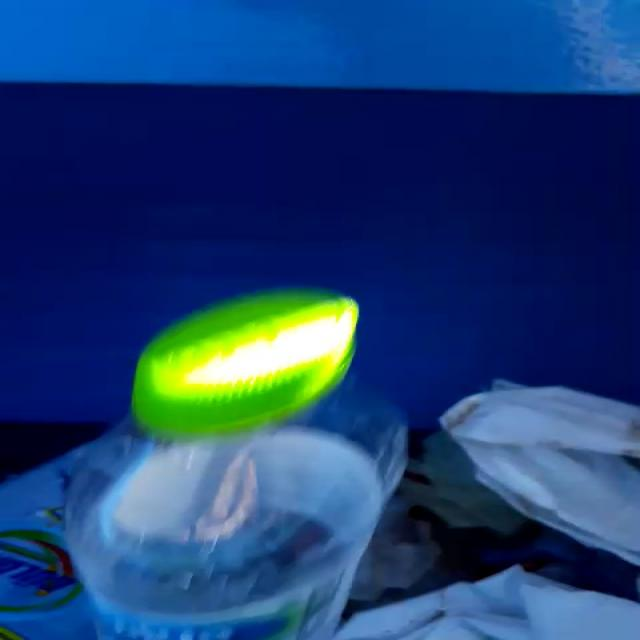plastic: (64, 289, 405, 640)
